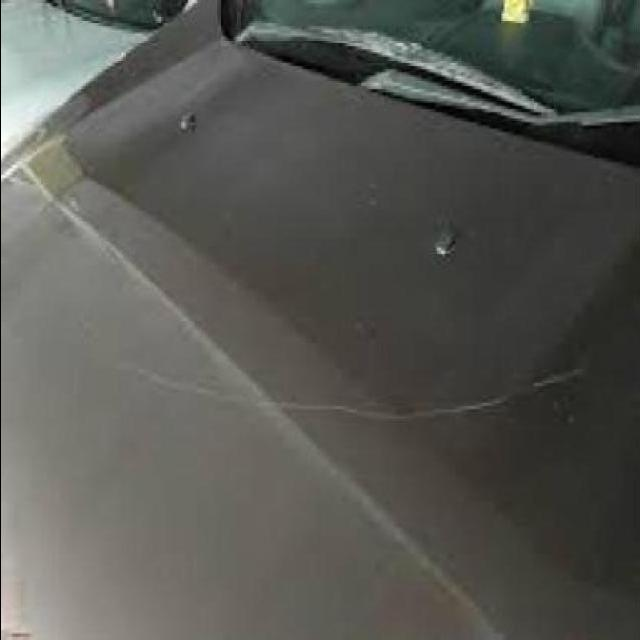bonnet-dent: (1, 69, 637, 639)
